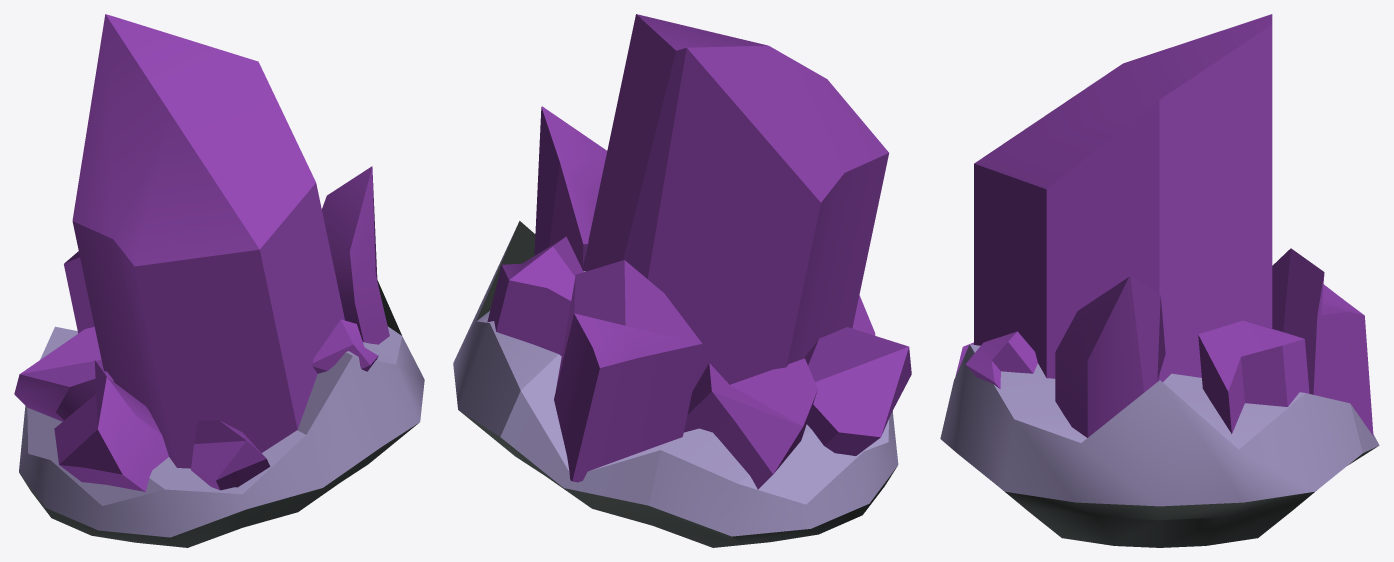
Rendered from Amethyst.fbx.
3 renders of one model, left to right at view 1: azimuth 30°, elevation 25°; view 2: azimuth 150°, elevation 25°; view 3: azimuth 270°, elevation 25°, orthographic. The views are drawn at different scales.
Parts seen in each view (by area): view 1: Cylinder; view 2: Cylinder; view 3: Cylinder.
Boxes of the visible parts, x1=… form: Cylinder: x1=14, y1=14, x2=424, y2=547; Cylinder: x1=453, y1=14, x2=911, y2=547; Cylinder: x1=940, y1=14, x2=1379, y2=547.
Bounding box in the file's own units: 3.73 × 4.69 × 3.81.
